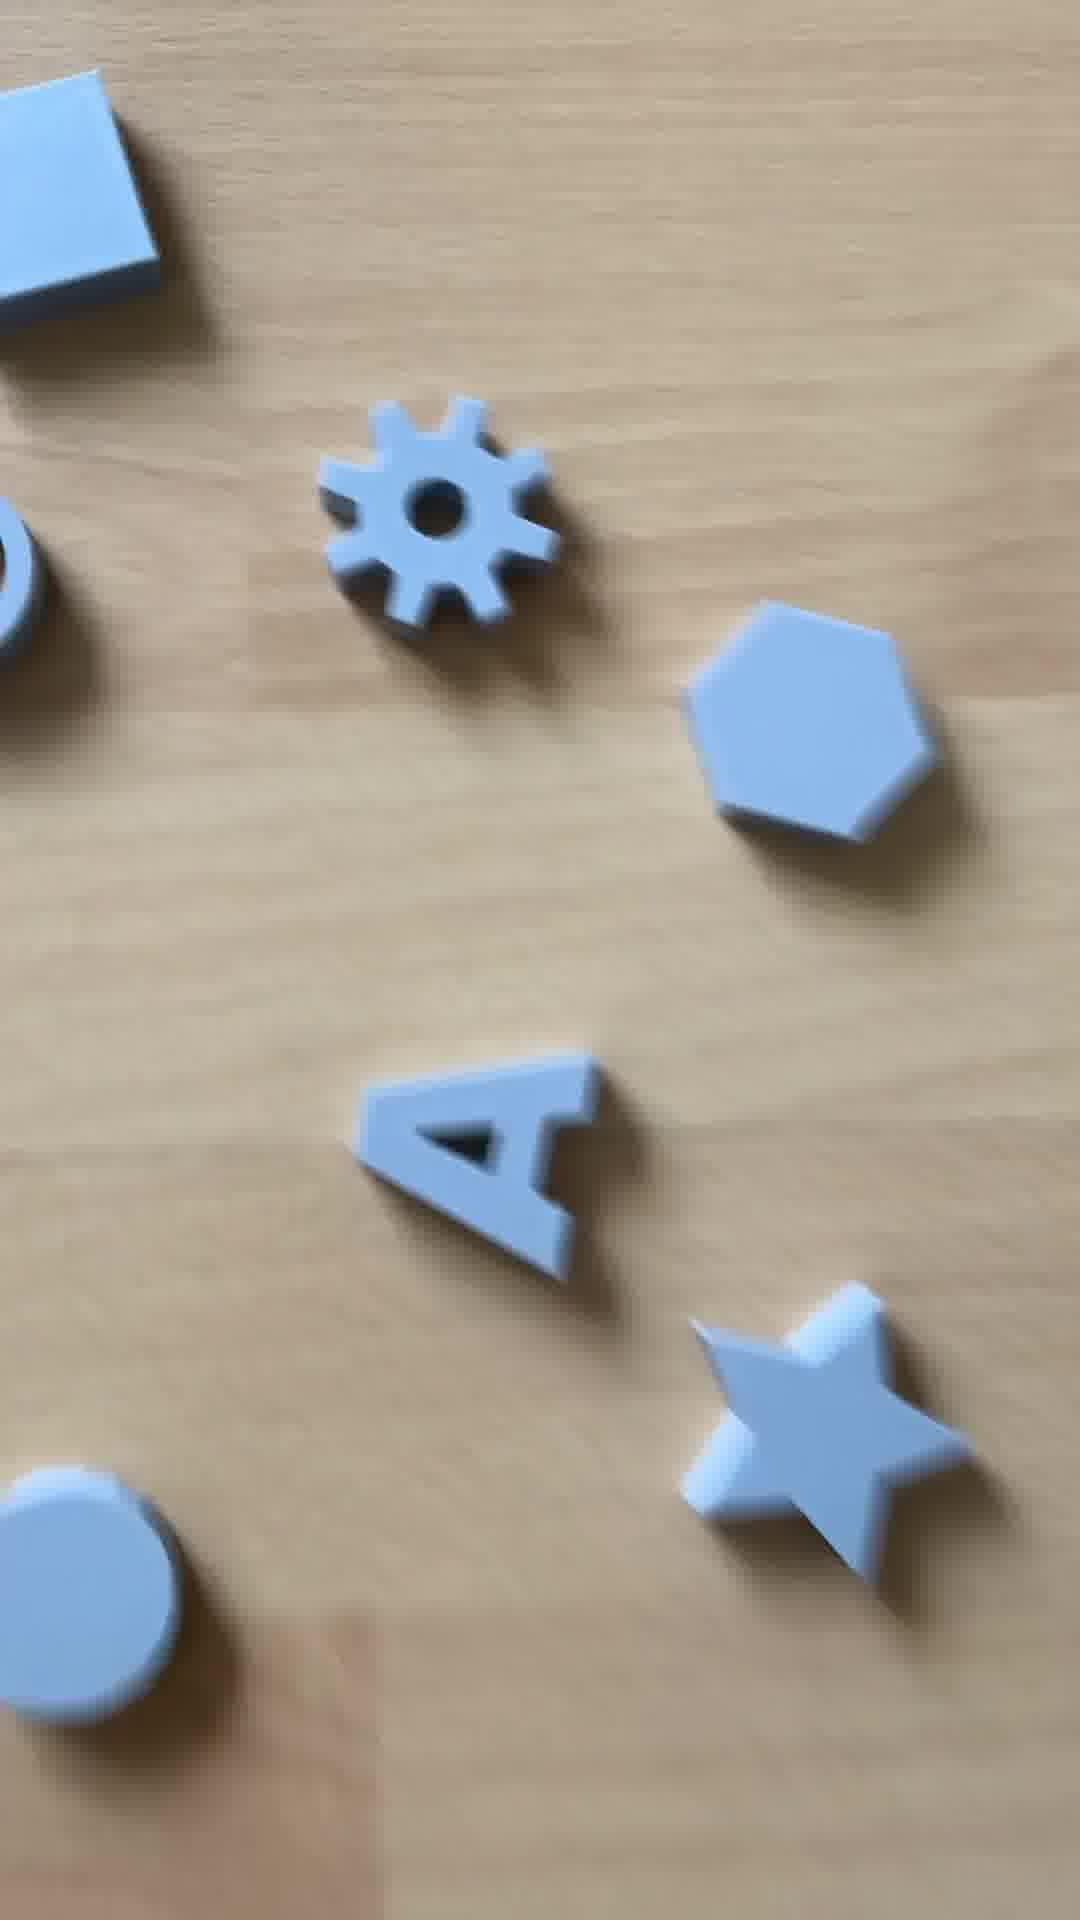Gray A-letter: (338, 1033, 618, 1299)
Gray circle: (1, 1481, 211, 1742)
Gray gear: (316, 393, 564, 634)
Gray hexagon: (684, 604, 947, 881)
Gray square: (1, 71, 170, 336)
Gray star: (676, 1280, 963, 1597)
